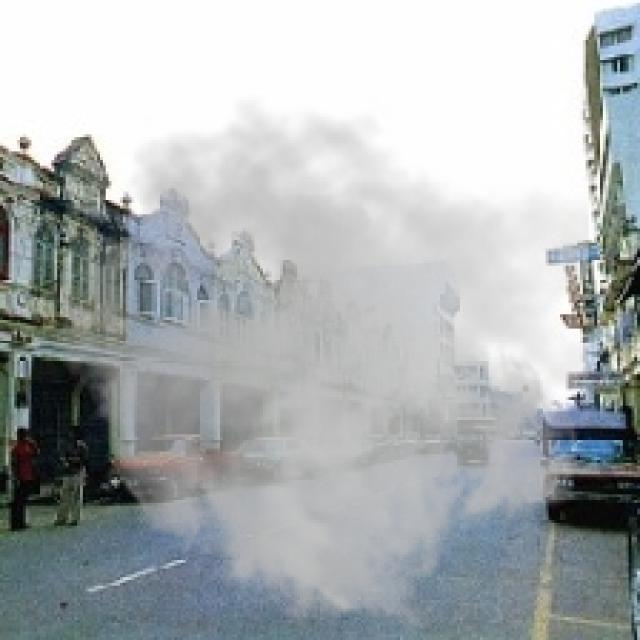Smoke: (51, 94, 588, 637)
